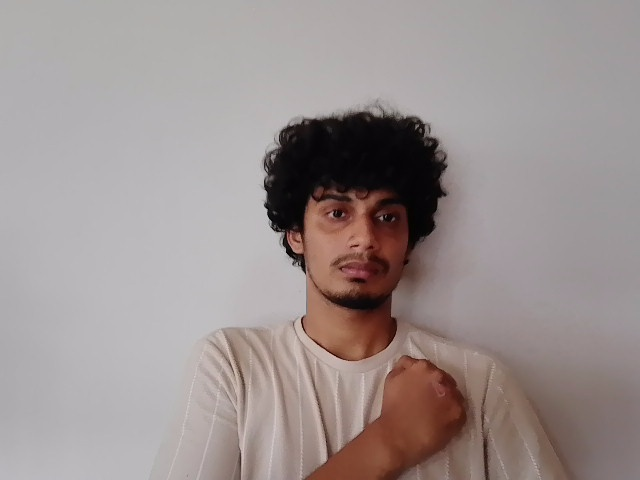sorry: (351, 317, 541, 480)
